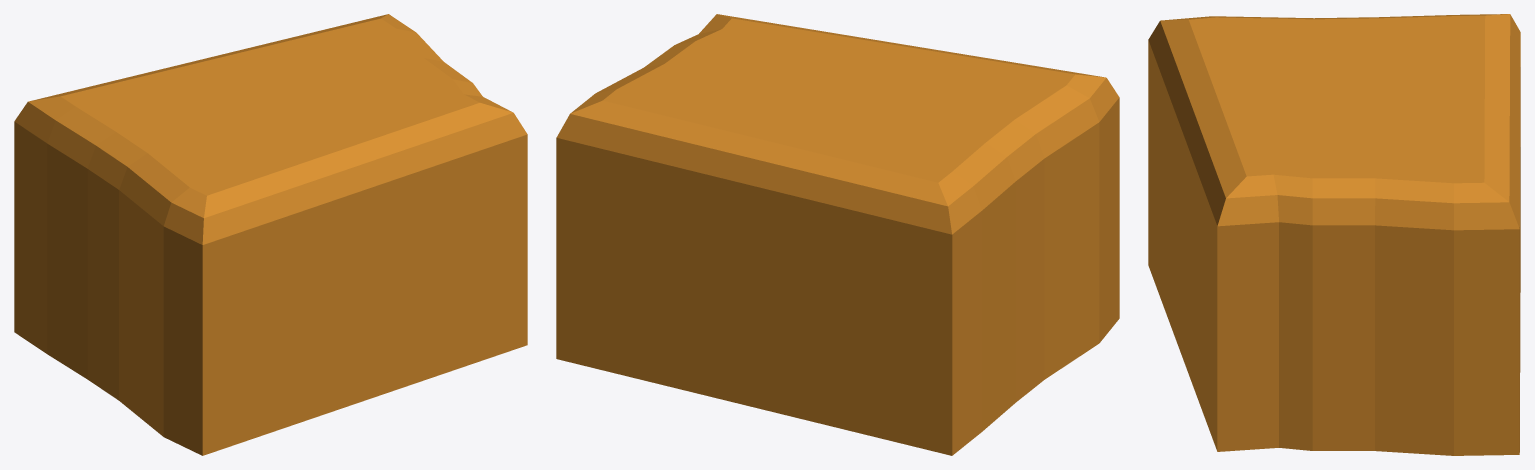
File: Railway_Damaged_end_02.fbx
3 views of the same model, side by side, from view 1: azimuth 30°, elevation 25°; view 2: azimuth 150°, elevation 25°; view 3: azimuth 270°, elevation 25° (orthographic). The views are drawn at different scales.
Visible parts, largest first — view 1: damaged_end_2.001; view 2: damaged_end_2.001; view 3: damaged_end_2.001.
Boxes of the visible parts, x1=… form: damaged_end_2.001: x1=14, y1=14, x2=527, y2=455; damaged_end_2.001: x1=556, y1=14, x2=1119, y2=455; damaged_end_2.001: x1=1148, y1=14, x2=1520, y2=455.
Bounding box in the file's own units: 159 × 96.41 × 126.
